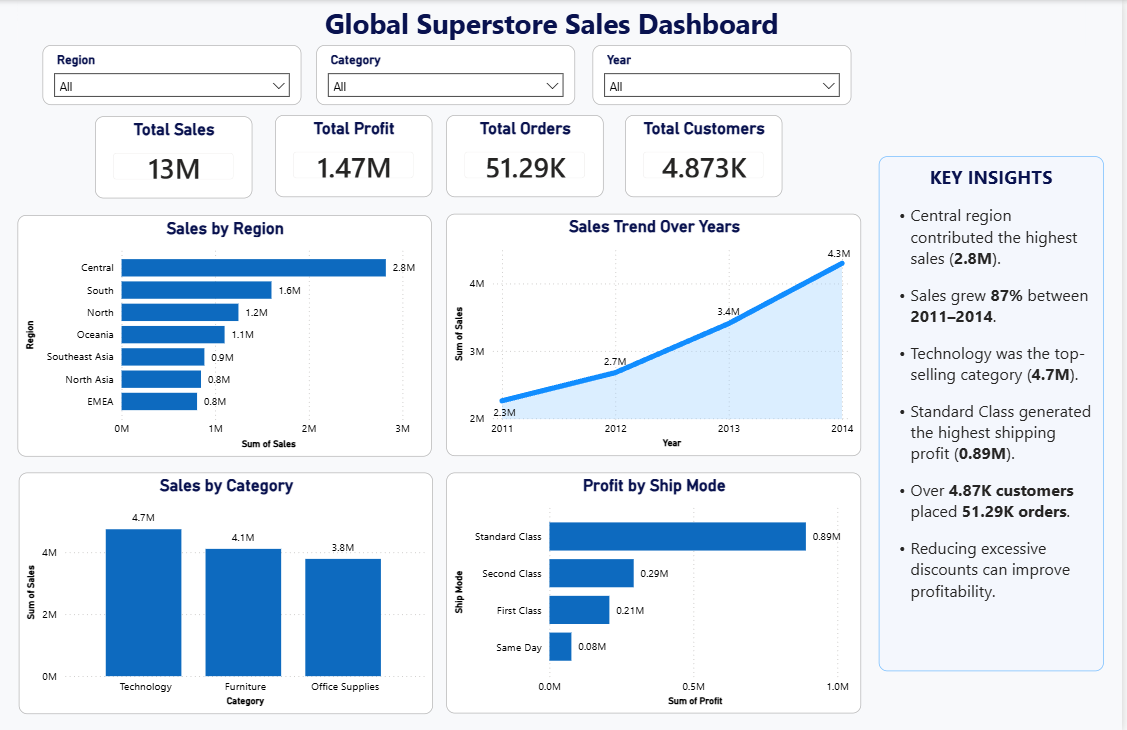

The page's visual inventory and layout, read from the dashboard file:
{"tool":"powerbi","page":{"name":"Page 1","canvas":[1300,850],"ordinal":0},"visuals":[{"type":"cardVisual","title":"Total Customers","fields":{"Data":["Count(superstore_cleaned.Customer ID)"]},"box":[724,133,182,95],"z":0},{"type":"cardVisual","title":"Total Orders","fields":{"Data":["CountNonNull(superstore_cleaned.Order ID)"]},"box":[517.1,133.3,182,95],"z":1000},{"type":"cardVisual","title":"Total Profit","fields":{"Data":["Sum(superstore_cleaned.Profit)"]},"box":[318.7,133.3,182,95],"z":2000},{"type":"cardVisual","title":"Total Sales","fields":{"Data":["Sum(superstore_cleaned.Sales)"]},"box":[110.1,134.7,182,95],"z":3000},{"type":"clusteredBarChart","title":"Sales by Region","fields":{"Category":["superstore_cleaned.Region"],"Y":["Sum(superstore_cleaned.Sales)"]},"box":[20.3,249.1,480,280],"z":4000},{"type":"lineChart","title":"Sales Trend Over Years","fields":{"Y":["Sum(superstore_cleaned.Sales)"],"Category":["superstore_cleaned.Year"]},"box":[517.1,247.7,480.9,281],"z":5000},{"type":"clusteredColumnChart","title":"Sales by Category","fields":{"Y":["Sum(superstore_cleaned.Sales)"],"Category":["superstore_cleaned.Category"]},"box":[21.7,547.5,480,280],"z":6000},{"type":"clusteredBarChart","title":"Profit by Ship Mode","fields":{"Y":["Sum(superstore_cleaned.Profit)"],"Category":["superstore_cleaned.Ship Mode"]},"box":[517.1,547.5,480.9,279.6],"z":7000},{"type":"textbox","box":[20.6,0,1238,52.9],"z":8000},{"type":"slicer","fields":{"Values":["superstore_cleaned.Region"]},"box":[49.3,52.1,299.8,69.5],"z":9000},{"type":"slicer","fields":{"Values":["superstore_cleaned.Category"]},"box":[366.5,52.1,299.8,69.5],"z":10000},{"type":"slicer","fields":{"Values":["superstore_cleaned.Year"]},"box":[686.6,52.1,299.8,69.5],"z":11000},{"type":"textbox","box":[1018.3,181.1,260.7,596.8],"z":12000}]}

Visuals, with their boxes in screenshot pixels (x1, y1, x2, y2), scaled from the page's 1300x850 canvas onto the 1127x730 screenshot:
"Total Customers" cardVisual: [left=628, top=114, right=785, bottom=196]
"Total Orders" cardVisual: [left=448, top=114, right=606, bottom=196]
"Total Profit" cardVisual: [left=276, top=114, right=434, bottom=196]
"Total Sales" cardVisual: [left=95, top=116, right=253, bottom=197]
"Sales by Region" clusteredBarChart: [left=18, top=214, right=434, bottom=454]
"Sales Trend Over Years" lineChart: [left=448, top=213, right=865, bottom=454]
"Sales by Category" clusteredColumnChart: [left=19, top=470, right=435, bottom=711]
"Profit by Ship Mode" clusteredBarChart: [left=448, top=470, right=865, bottom=710]
textbox: [left=18, top=0, right=1091, bottom=45]
slicer - superstore_cleaned.Region: [left=43, top=45, right=303, bottom=104]
slicer - superstore_cleaned.Category: [left=318, top=45, right=578, bottom=104]
slicer - superstore_cleaned.Year: [left=595, top=45, right=855, bottom=104]
textbox: [left=883, top=156, right=1109, bottom=668]
